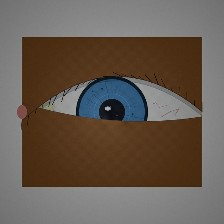pinguecula_lesion: (33, 95, 62, 118)
